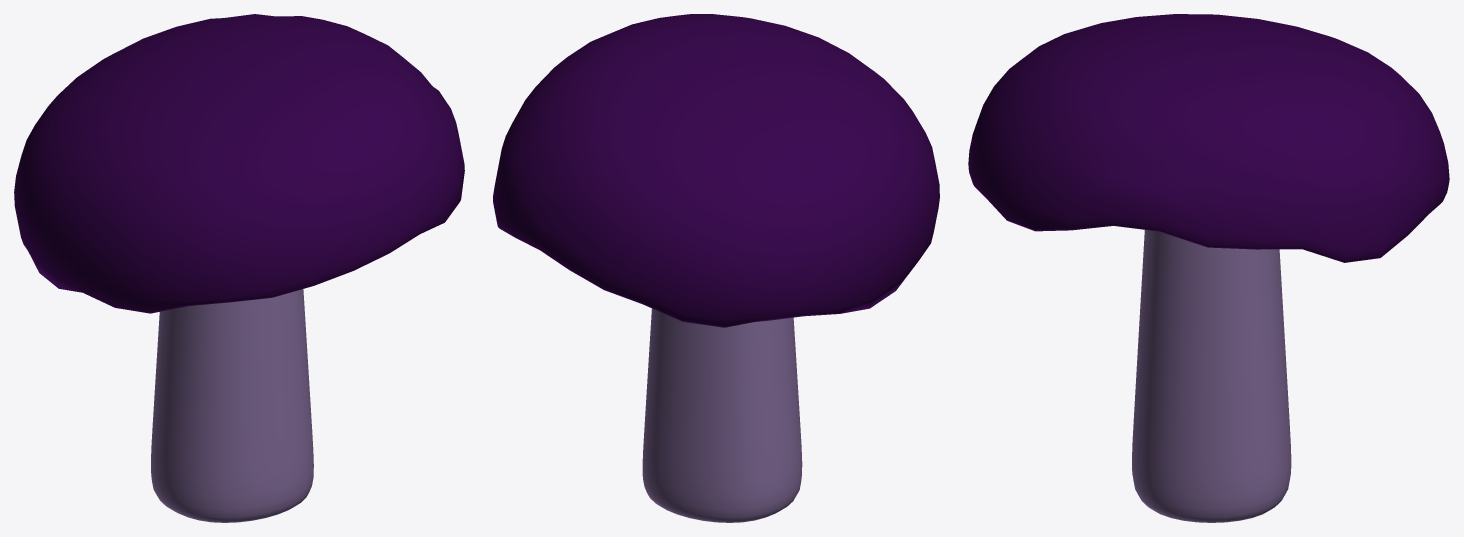
The model's file is Purble Shroom.fbx.
3 renders of one model, left to right at view 1: azimuth 30°, elevation 25°; view 2: azimuth 150°, elevation 25°; view 3: azimuth 270°, elevation 25°, orthographic. The views are drawn at different scales.
Visible parts, largest first — view 1: Cap Purple Shroom, Stiel Purple Shroom; view 2: Cap Purple Shroom, Stiel Purple Shroom; view 3: Cap Purple Shroom, Stiel Purple Shroom.
Part boxes in pixels (x1,y1,x2,y2): Cap Purple Shroom: (14,14,464,313); Stiel Purple Shroom: (151,289,313,522); Cap Purple Shroom: (493,14,939,327); Stiel Purple Shroom: (642,308,802,522); Cap Purple Shroom: (968,14,1449,262); Stiel Purple Shroom: (1132,230,1291,522).
Bounding box in the file's own units: 233 × 261 × 245.
